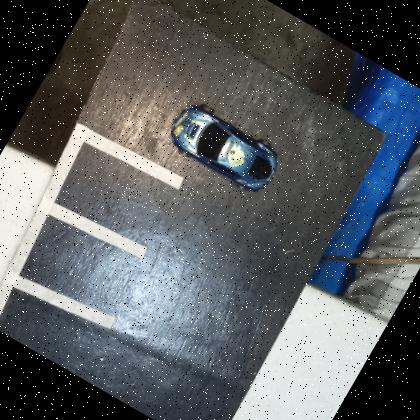Car: (159, 94, 288, 202)
